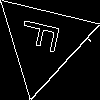F: (18, 16, 70, 57)
